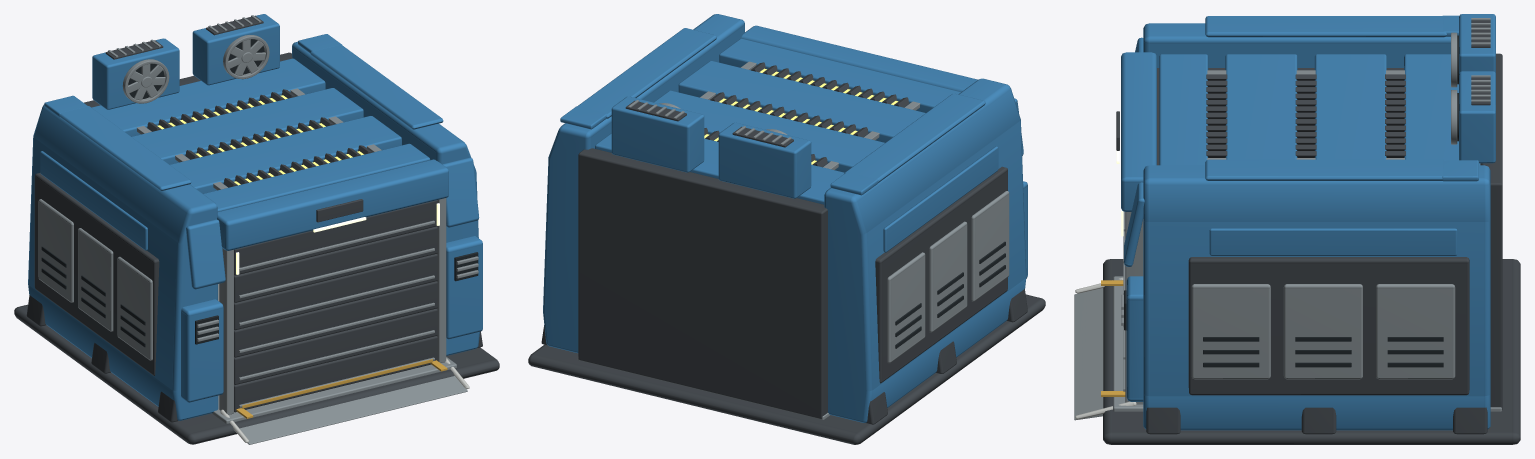
File: factory-armored.glb
3 views of the same model, side by side, from view 1: azimuth 30°, elevation 25°; view 2: azimuth 150°, elevation 25°; view 3: azimuth 270°, elevation 25° (orthographic). The views are drawn at different scales.
Parts seen in each view (by area): view 1: shell-team-primary, shell-neutral-metal, shell-structure, door-slat.004, door-slat.003, door-slat.002, door-slat.001, door-slat, door-slat.005, shell-rubber, door-slat-rib.003, door-slat-rib.001 (+4 smaller); view 2: shell-team-primary, shell-structure, shell-neutral-metal, shell-rubber; view 3: shell-team-primary, shell-structure, shell-neutral-metal, shell-rubber.
Part boxes in pixels (x1,y1,x2,y2): shell-team-primary: (28, 14, 482, 420); shell-neutral-metal: (38, 15, 478, 444); shell-structure: (14, 15, 499, 444); door-slat.004: (234, 226, 437, 302); door-slat.003: (234, 254, 437, 330); door-slat.002: (234, 281, 437, 357); door-slat.001: (234, 308, 437, 384); door-slat: (234, 336, 437, 412); door-slat.005: (234, 200, 437, 275); shell-rubber: (41, 39, 478, 347); door-slat-rib.003: (239, 275, 434, 325); door-slat-rib.001: (239, 330, 434, 380); shell-team-primary: (543, 14, 1027, 422); shell-structure: (528, 62, 1045, 444); shell-neutral-metal: (577, 61, 1009, 419); shell-rubber: (895, 241, 1005, 348); shell-team-primary: (1121, 14, 1495, 430); shell-structure: (1103, 20, 1520, 444); shell-neutral-metal: (1074, 18, 1501, 420); shell-rubber: (1124, 35, 1458, 367).
Bounding box in the file's own units: 2.98 × 2.29 × 3.1.
